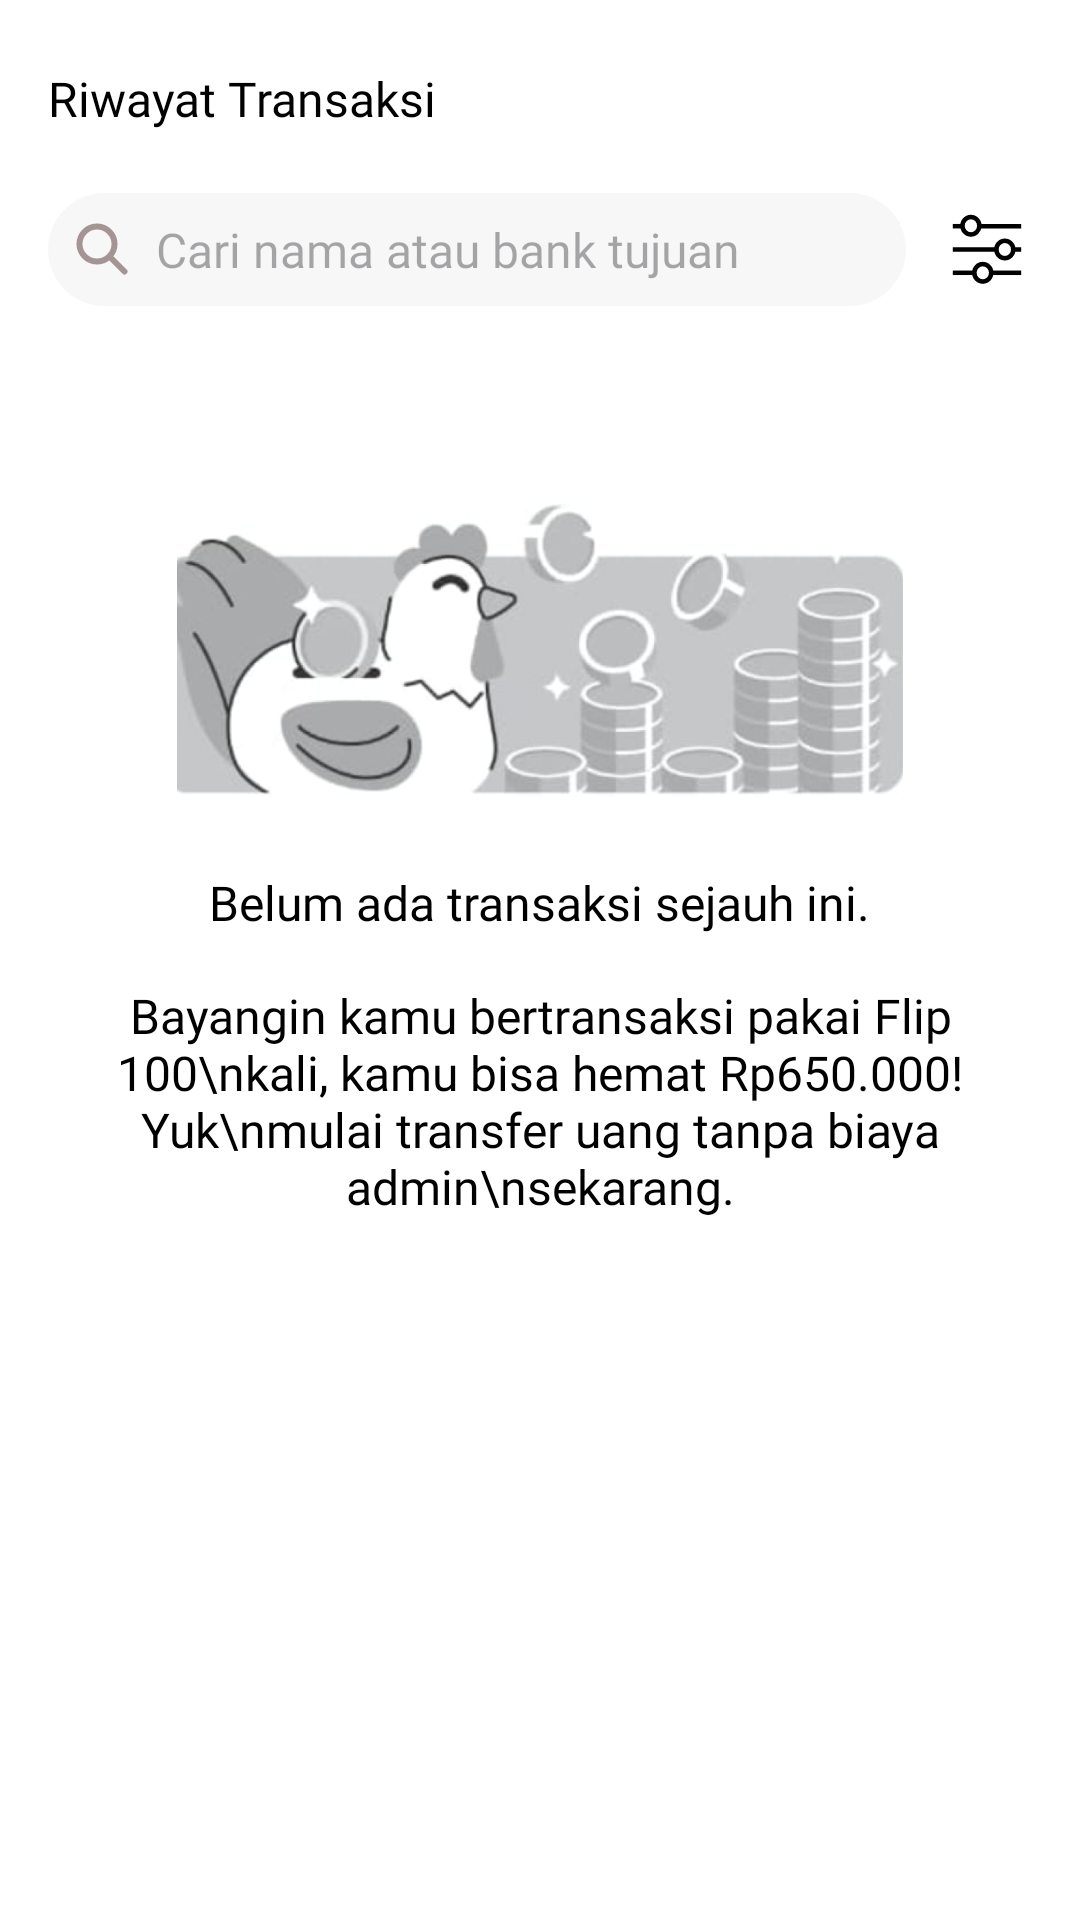

Icon bounding boxes for this 1080×1920 phone screenshot, format (x1, y1, x2, y2):
filter: (952, 214, 1022, 284)
